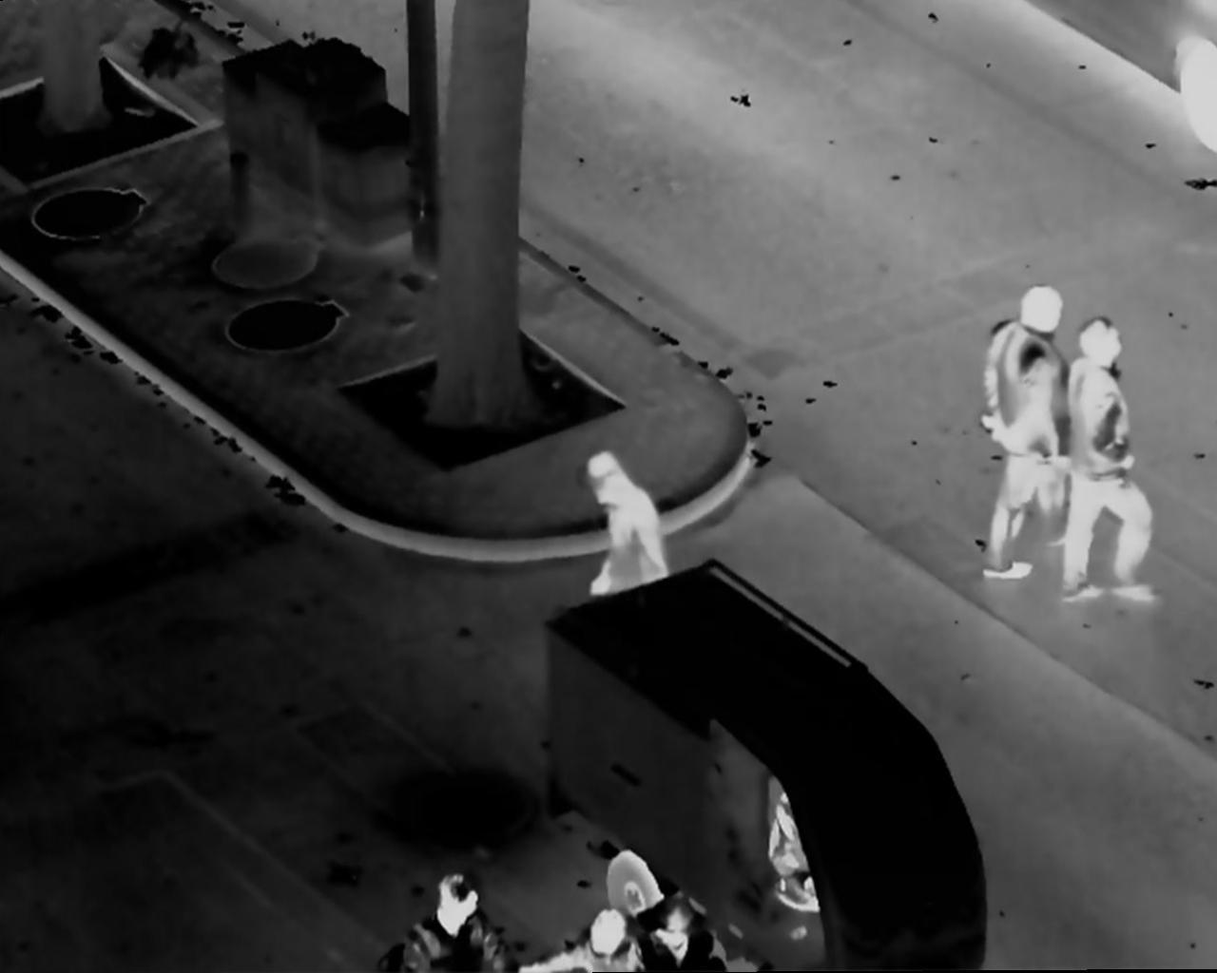person: (969, 280, 1072, 582), (1054, 315, 1157, 612), (573, 448, 679, 595), (396, 860, 511, 971), (506, 894, 639, 973)
